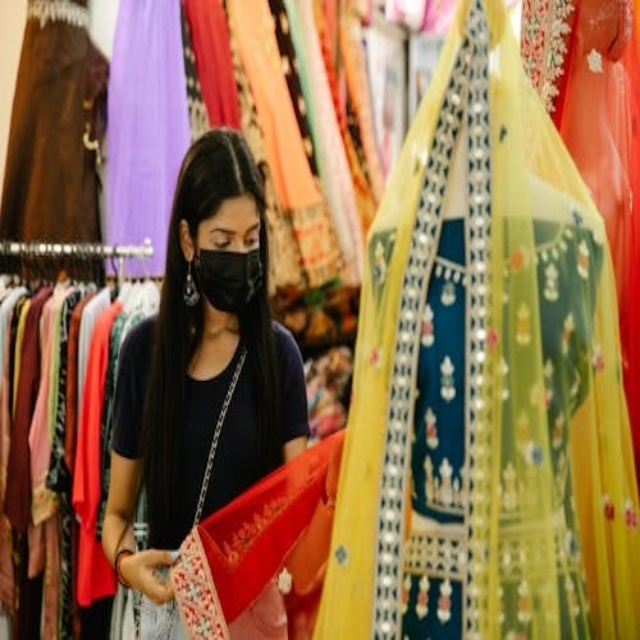Mascara: (193, 236, 263, 314)
Sin_gafas: (197, 217, 265, 248)
Sin_guantes: (122, 534, 183, 609)
